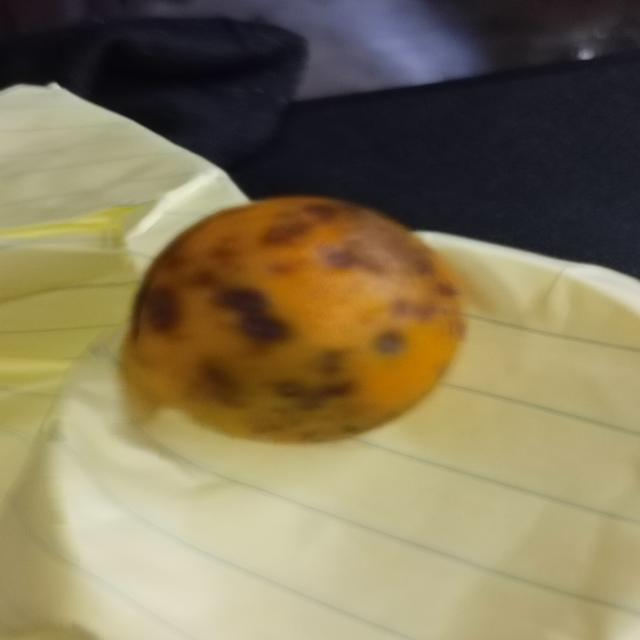black spot: (124, 194, 475, 448)
